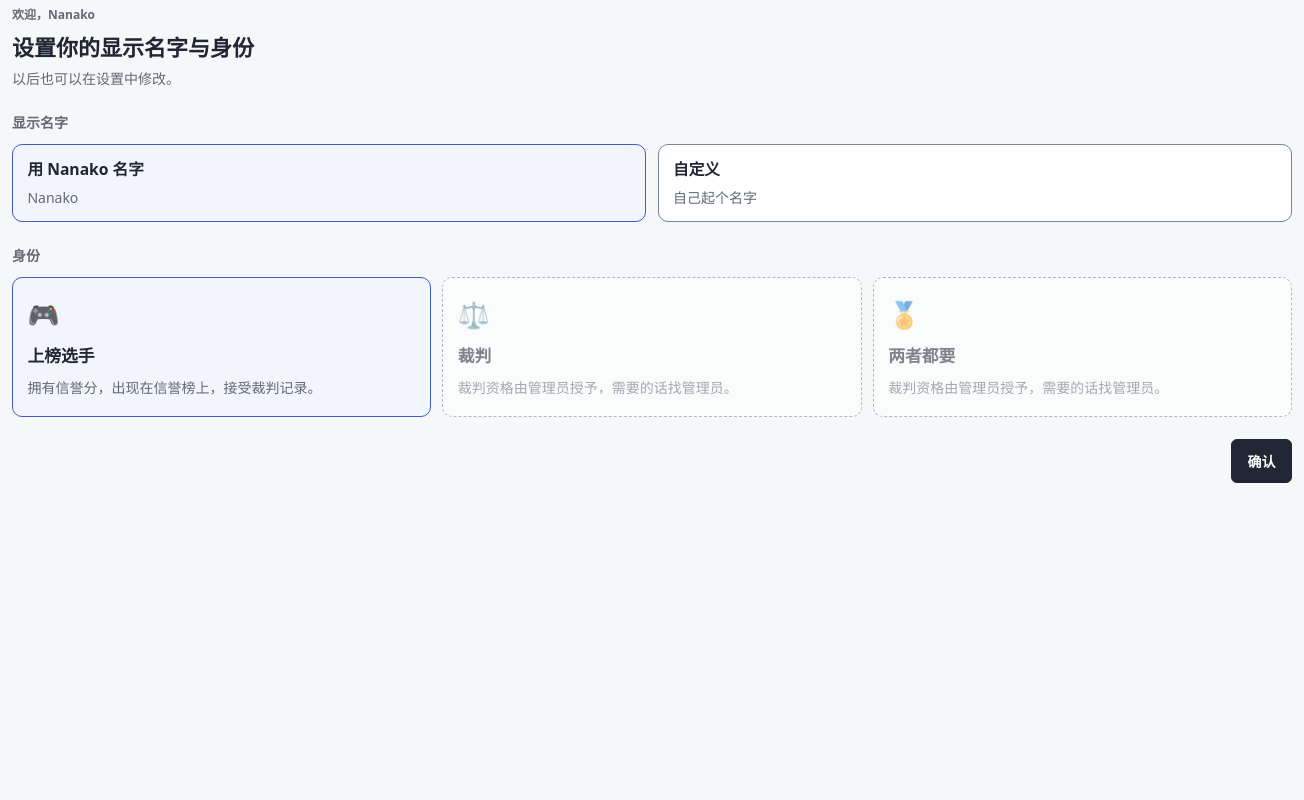
it: IdentityForm names and failures › keeps edits and allows retry when the name request fails
Click the radio button labelled "自定义 自己起个名字": (696, 169) [658,144,1292,222]
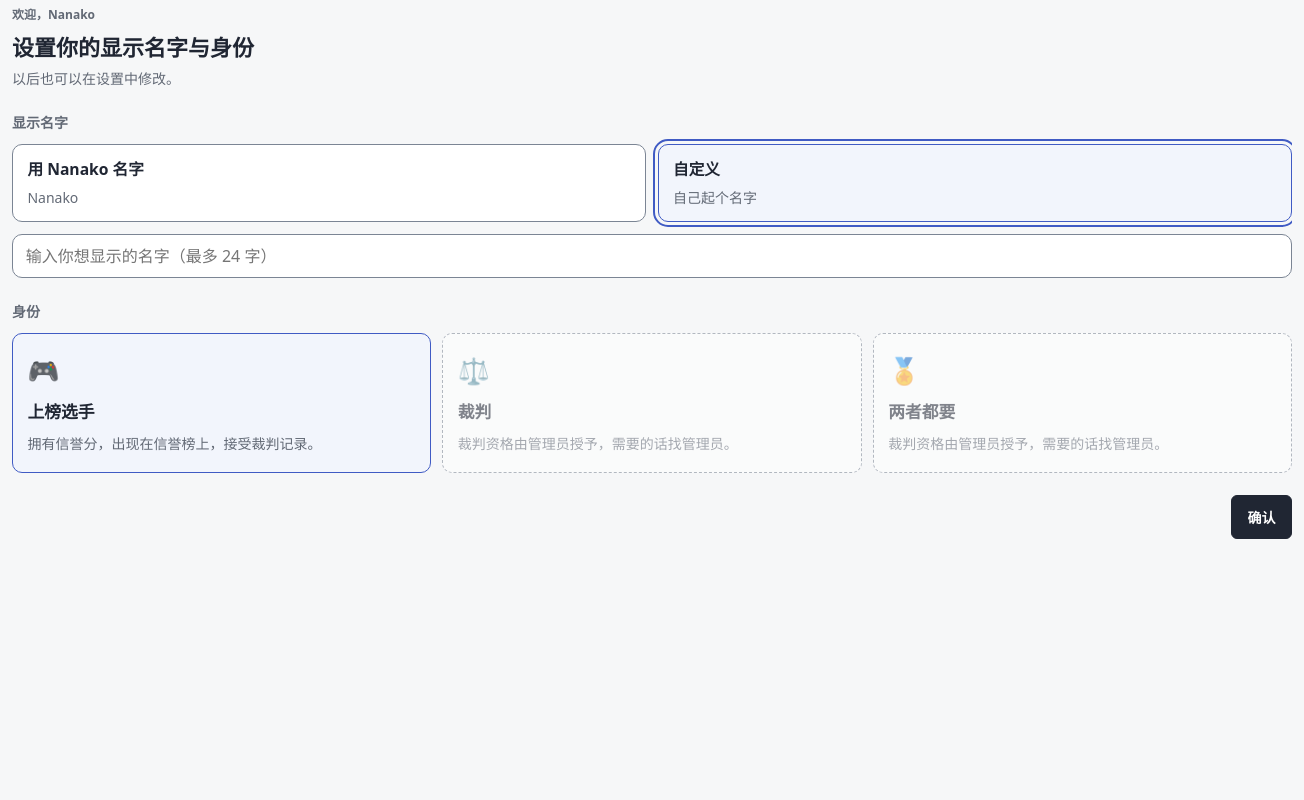
In the field named "自定义显示名字": (652, 256) [12,234,1292,278], type "新名字"
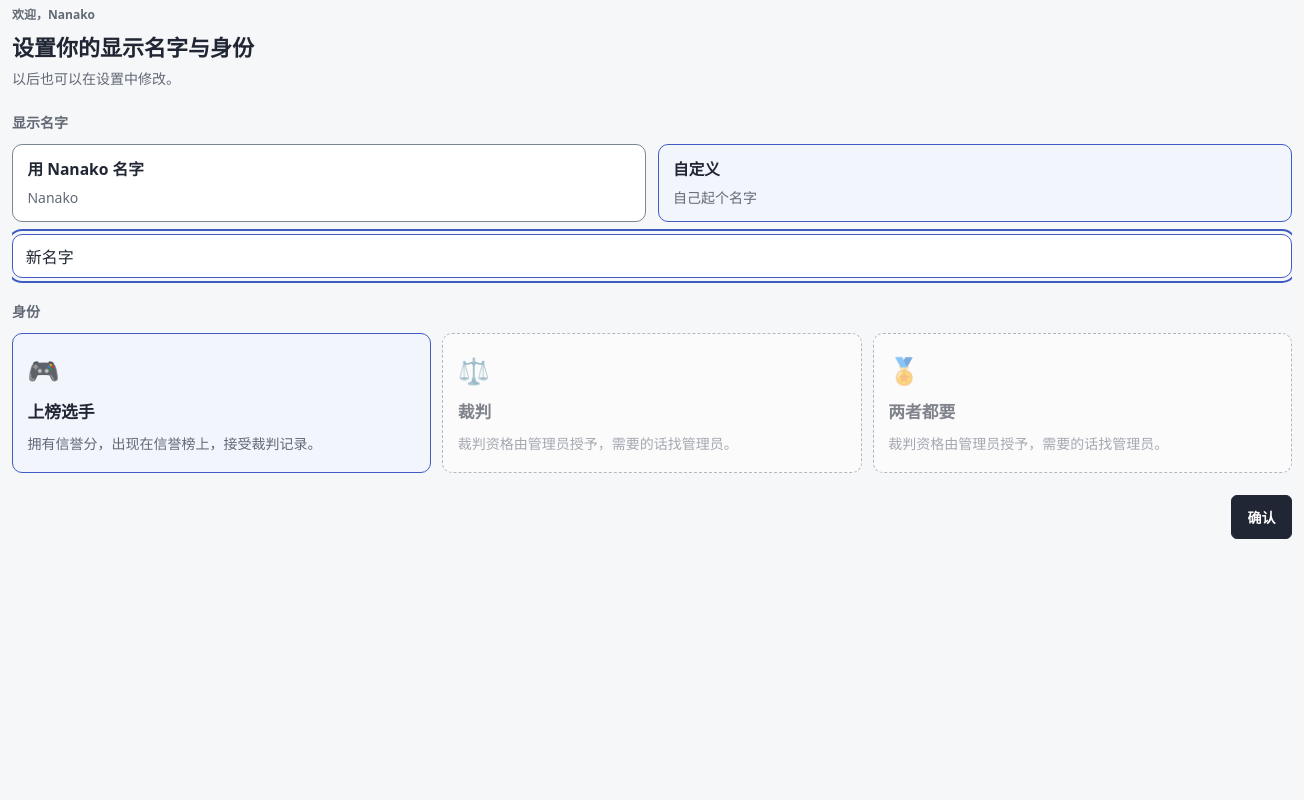
Click the button "确认": (1262, 518) [1231,496,1292,540]
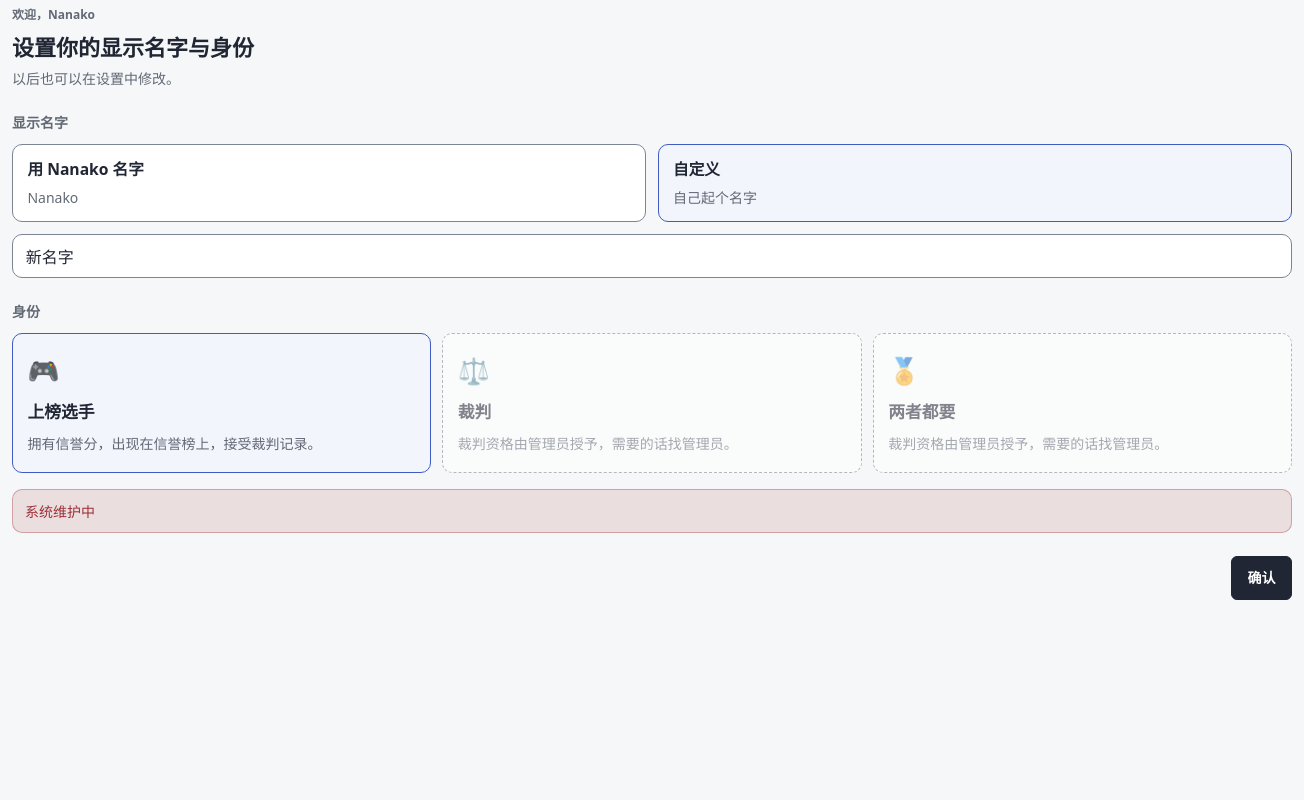
Expected: the button "确认" is enabled, [1231,556,1292,600]
Now the message reads "系统维护中", box [25,502,95,521]
